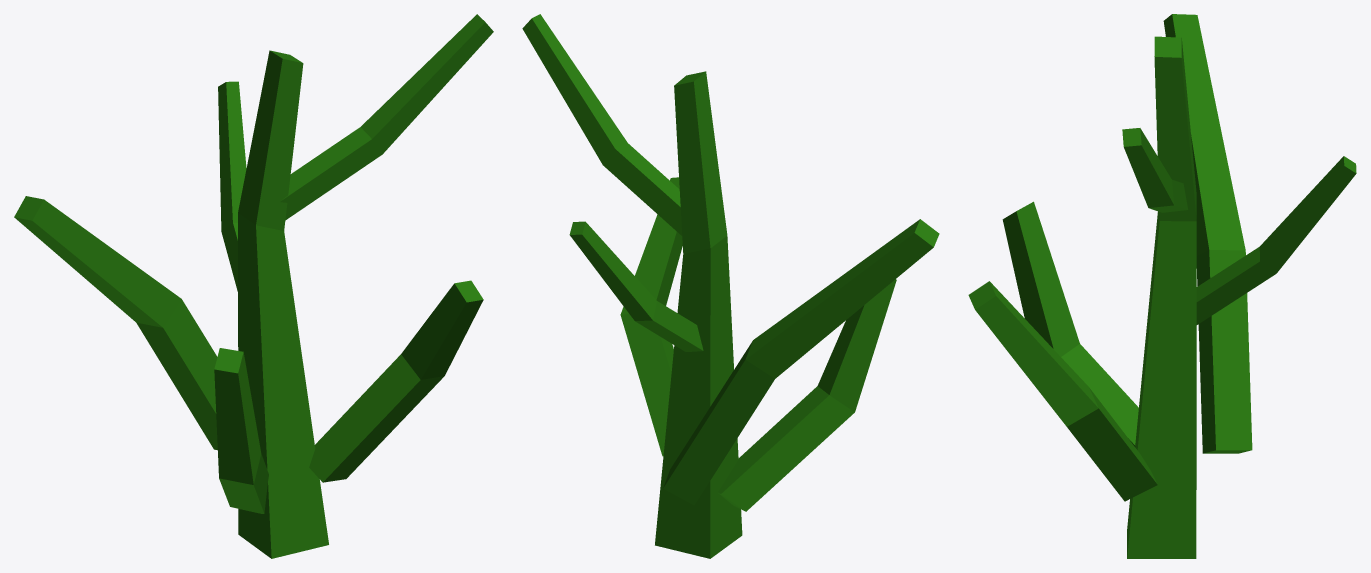
Rendered from grass01.fbx.
3 renders of one model, left to right at view 1: azimuth 30°, elevation 25°; view 2: azimuth 150°, elevation 25°; view 3: azimuth 270°, elevation 25°, orthographic. The views are drawn at different scales.
Parts seen in each view (by area): view 1: grass_03_Plane_003; view 2: grass_03_Plane_003; view 3: grass_03_Plane_003.
Part boxes in pixels (x1,y1,x2,y2): grass_03_Plane_003: (14, 14, 493, 558); grass_03_Plane_003: (522, 14, 939, 558); grass_03_Plane_003: (968, 14, 1356, 558).
Size of the model in its own units: 27.56 by 28.67 by 19.78.
